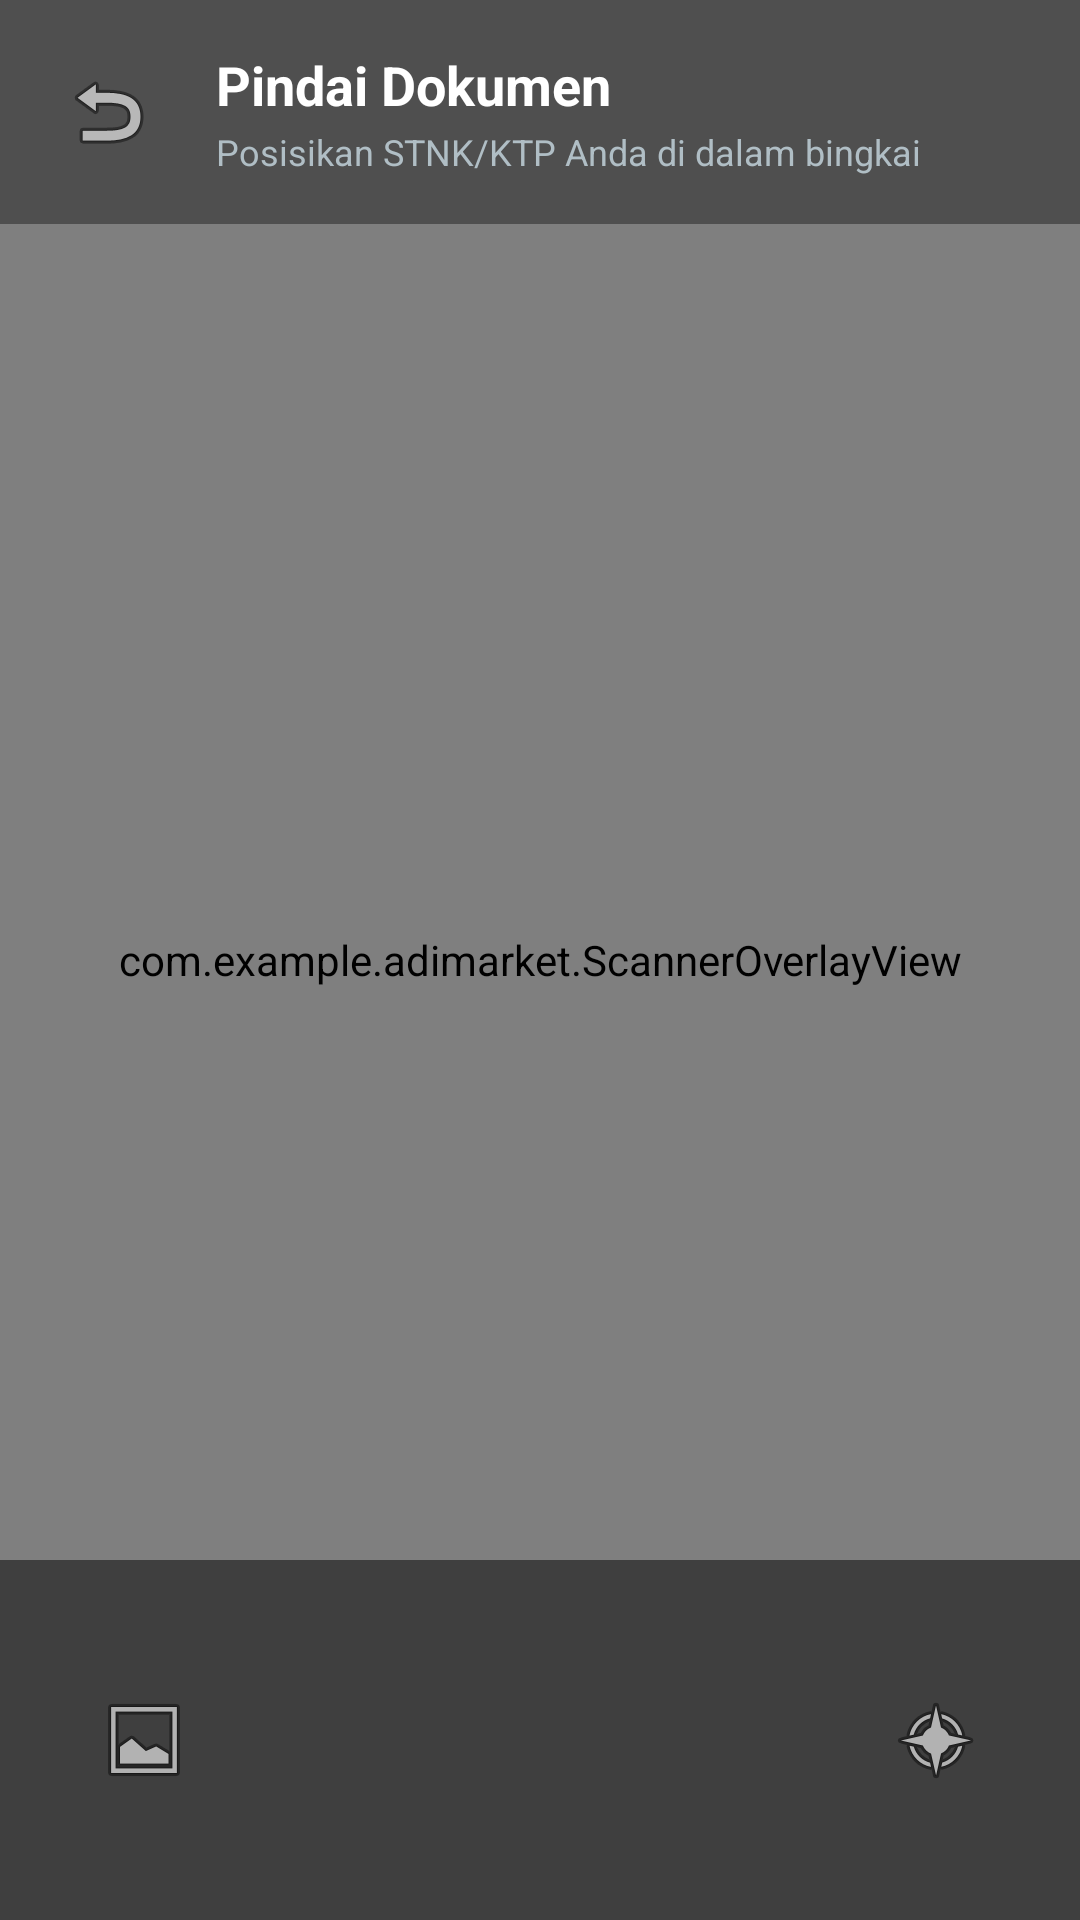

Point at icon controls on the screen. Image size 1080px×1920px, points as [x,y].
Galeri: [144,1740]
Kembali: [109,112]
